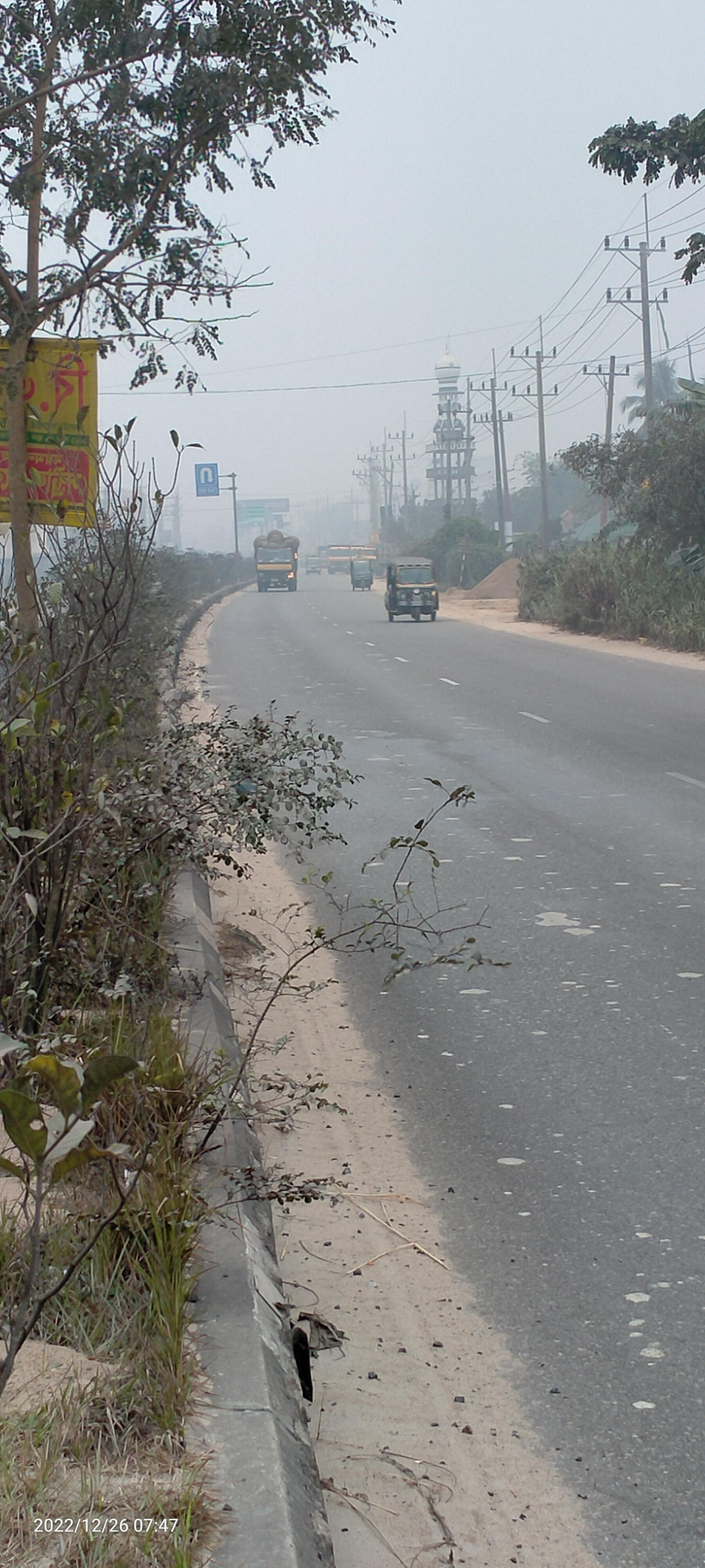Car: (345, 554, 381, 598)
Truck: (248, 526, 304, 594)
